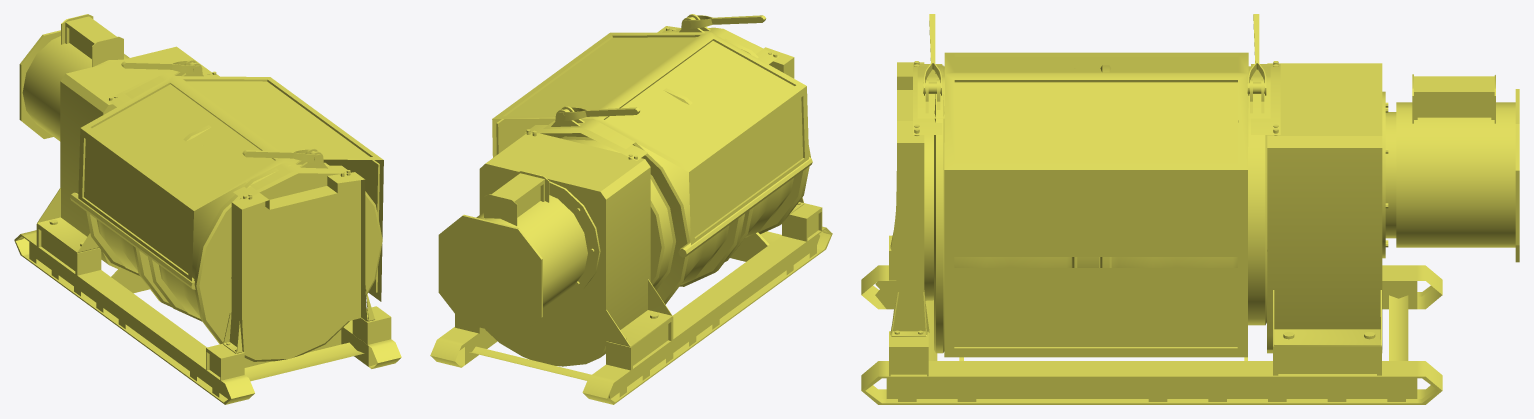
Rendered from Scraper Winch.fbx.
3 views of the same model, side by side, from view 1: azimuth 30°, elevation 25°; view 2: azimuth 150°, elevation 25°; view 3: azimuth 270°, elevation 25° (orthographic). The views are drawn at different scales.
Visible parts, largest first — view 1: Cube.038, Cube.001, Cube.003, Cube.002; view 2: Cube.038, Cube.001, Cube.002, Cube.003; view 3: Cube.038, Cube.001, Cube.002, Cube.003.
Boxes of the visible parts, box(x1,y1,x2,y2) form: Cube.038: box(14, 14, 401, 404); Cube.001: box(78, 76, 383, 301); Cube.003: box(148, 145, 382, 361); Cube.002: box(86, 125, 211, 307); Cube.038: box(430, 14, 832, 404); Cube.001: box(492, 32, 808, 244); Cube.002: box(540, 88, 744, 304); Cube.003: box(696, 33, 810, 261); Cube.038: box(861, 14, 1519, 404); Cube.001: box(944, 52, 1248, 357); Cube.002: box(1100, 65, 1267, 325); Cube.003: box(934, 65, 1100, 353).
Size of the model in its own units: 110 by 124 by 241.
